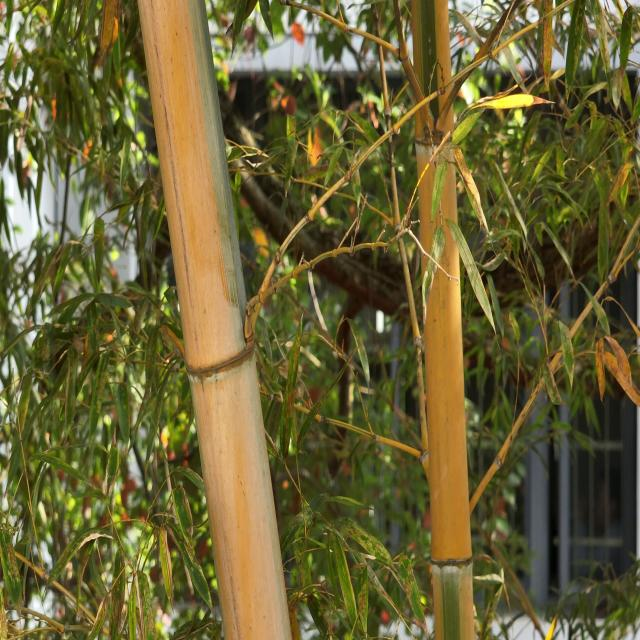Bamboo-shoots: (138, 0, 291, 640), (411, 0, 473, 640)
